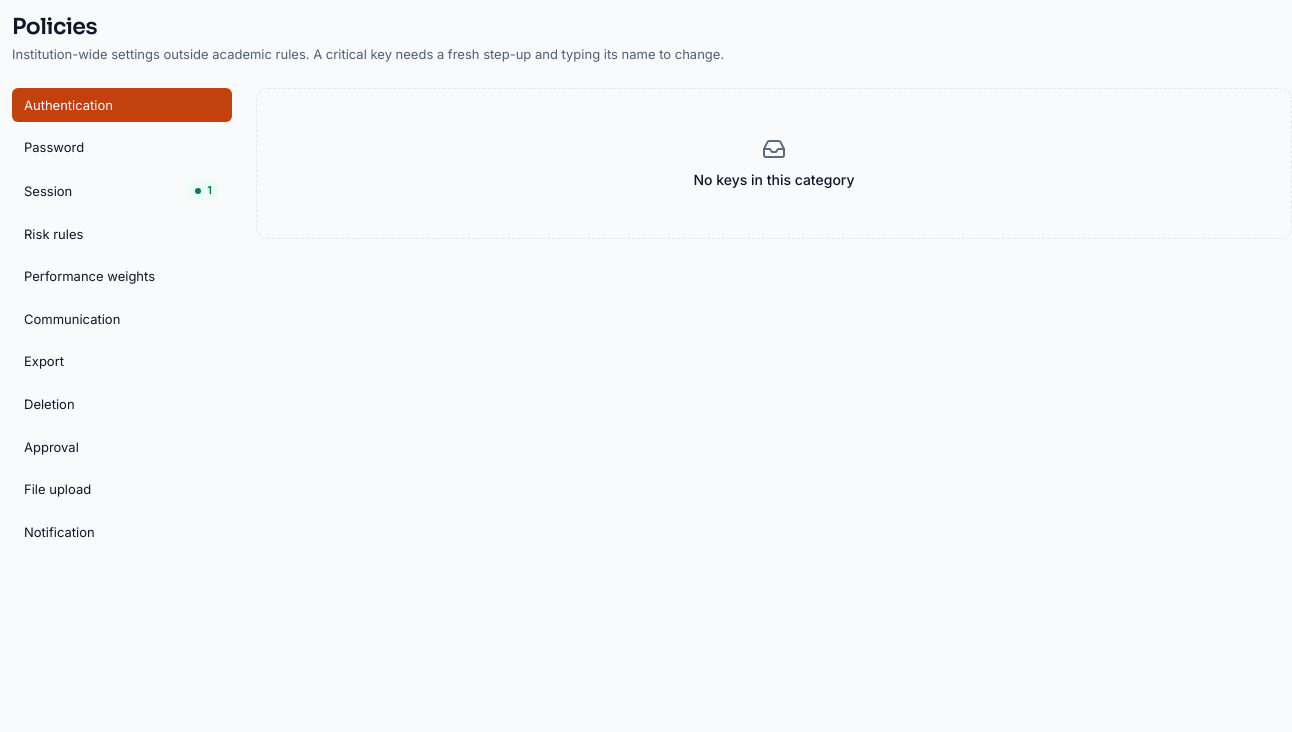
Test case: PoliciesScreen › does not offer edit or reset without policy.manage
Click the button "Session 1". click: (122, 191)
box: [12,173,232,209]
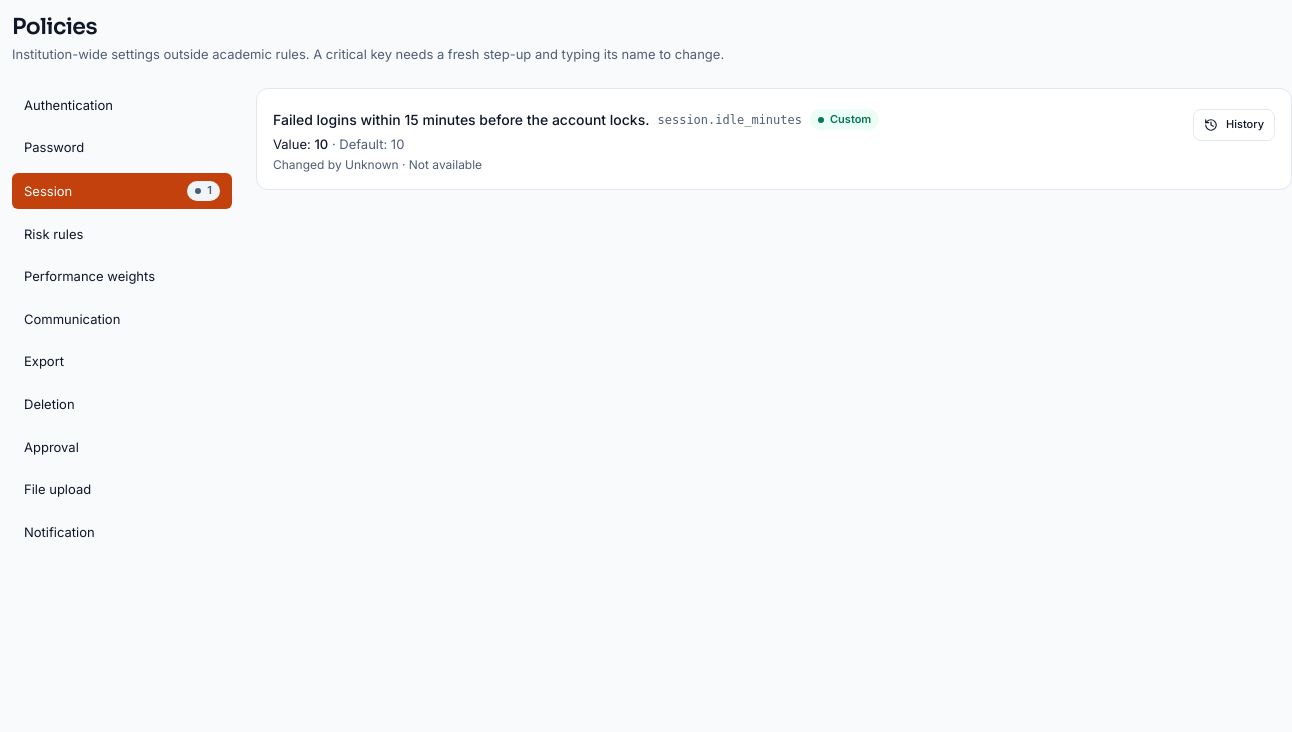
expect the button "History" is shown: met, box [1193,109,1275,141]
